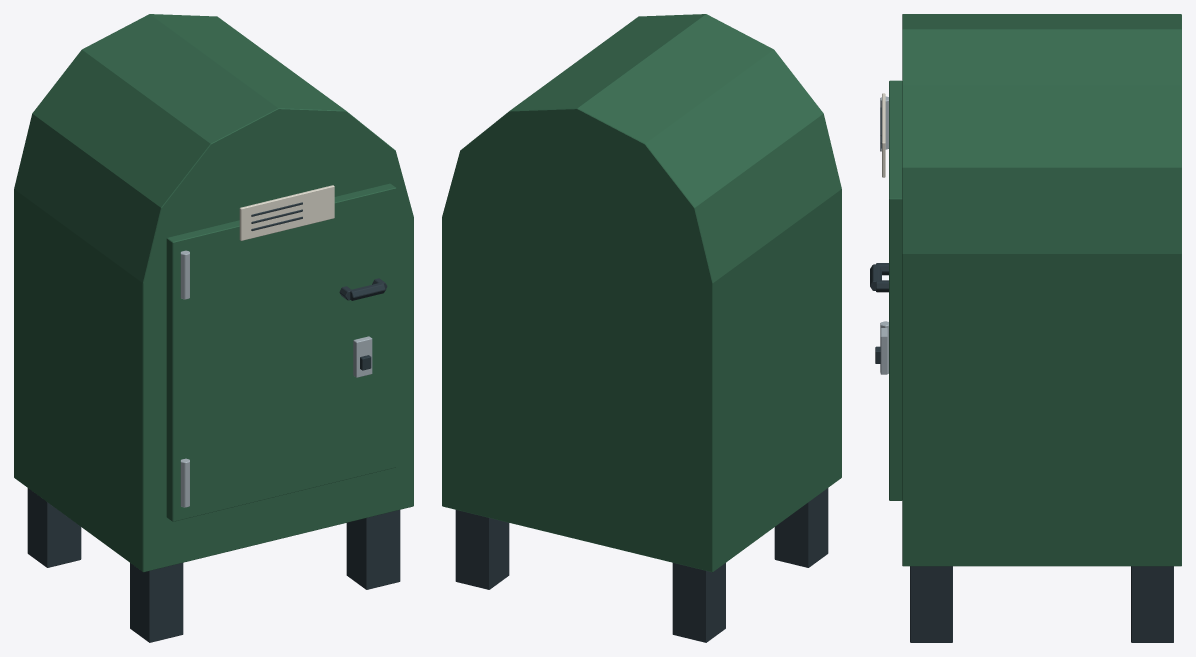
Rendered from b14_postal_relay_storage_box.glb.
3 renders of one model, left to right at view 1: azimuth 30°, elevation 25°; view 2: azimuth 150°, elevation 25°; view 3: azimuth 270°, elevation 25°, orthographic. The views are drawn at different scales.
Visible parts, largest first — view 1: b14_postal_relay_storage_box; view 2: b14_postal_relay_storage_box; view 3: b14_postal_relay_storage_box.
Part boxes in pixels (bbox=[...]): b14_postal_relay_storage_box: bbox=[14, 14, 413, 642]; b14_postal_relay_storage_box: bbox=[442, 14, 841, 642]; b14_postal_relay_storage_box: bbox=[870, 14, 1181, 642].
Size of the model in its own units: 0.75 by 1.34 by 0.6912.
